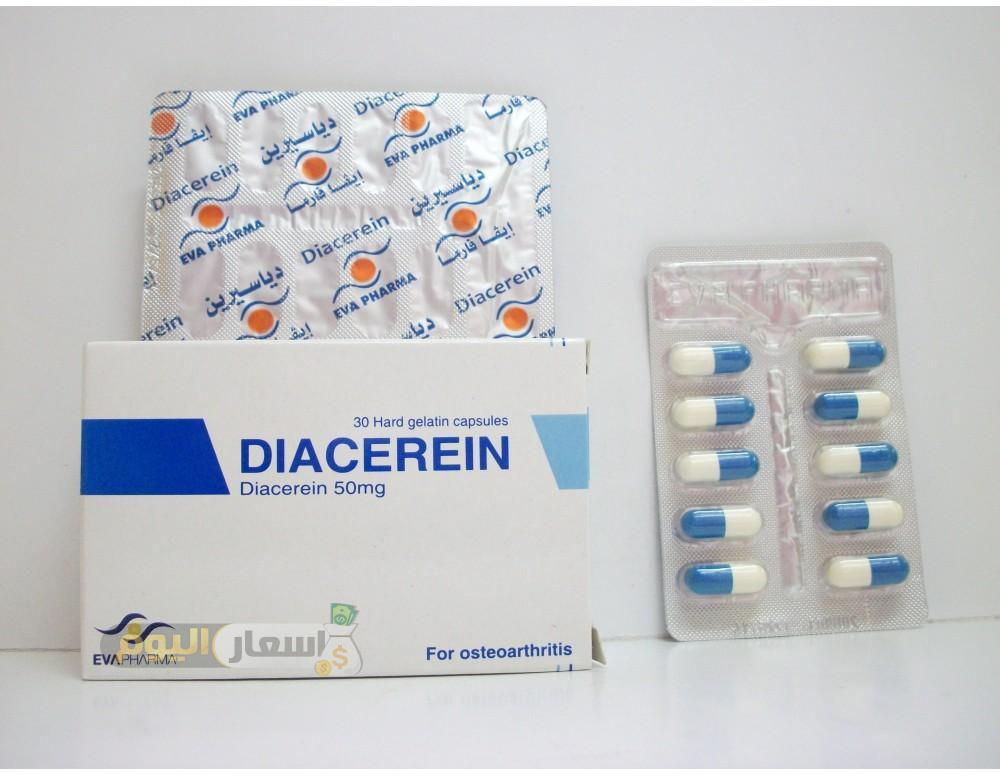Medicine: (64, 326, 614, 692), (130, 76, 558, 330)
